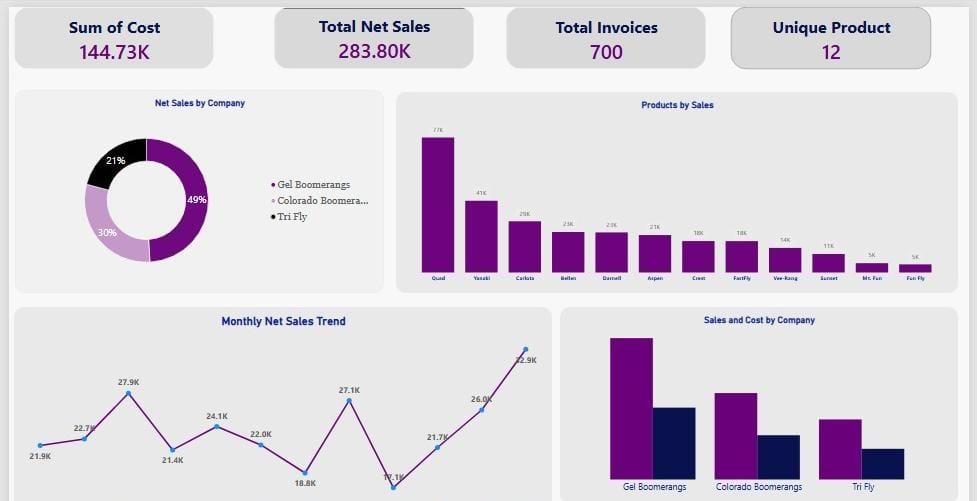

What the dashboard file says about the page in this screenshot:
{"tool":"powerbi","page":{"name":"Page 1","canvas":[1920,1080],"ordinal":0},"visuals":[{"type":"cardVisual","fields":{"Data":["Sum(Merge1.Net Sales)"]},"box":[530,0,400,124],"z":0},{"type":"columnChart","title":"Products by Sales","fields":{"Category":["Merge1.      Product      "],"Y":["Sum(Merge1.Net Sales)"]},"box":[774,170,1124,402],"z":1000},{"type":"cardVisual","fields":{"Data":["Sum(Merge1.Cost)"]},"box":[10,0,400,124],"z":2000},{"type":"clusteredColumnChart","title":"Sales and Cost by Company","fields":{"Category":["Merge1. Company"],"Y":["Sum(Merge1.Net Sales)","Sum(Merge1.Cost)"]},"box":[1102,600,796,394],"z":3000},{"type":"lineChart","title":"Monthly Net Sales Trend","fields":{"Category":["Merge1.Date.Variation.Date Hierarchy.Month"],"Y":["Sum(Merge1.Net Sales)"]},"box":[10,600,1076,422],"z":4000},{"type":"donutChart","title":"Net Sales by Company","fields":{"Category":["Merge1. Company"],"Y":["Sum(Merge1.Net Sales)"]},"box":[12,166,738,406],"z":5000},{"type":"cardVisual","fields":{"Data":["Count(Merge1.Invoice Number)"]},"box":[994,0,400,124],"z":6000},{"type":"cardVisual","fields":{"Data":["CountNonNull(notepad.      Product      )"]},"box":[1444,0,400,124],"z":7000}]}

Visuals, with their boxes on the page's 1920x1080 design canvas (x1, y1, x2, y2). These are canvas units, not pixel positions in the 977x501 screenshot, which may show the page scaled, cropped or inside an application window:
cardVisual - Sum(Merge1.Net Sales): box(530, 0, 930, 124)
"Products by Sales" columnChart: box(774, 170, 1898, 572)
cardVisual - Sum(Merge1.Cost): box(10, 0, 410, 124)
"Sales and Cost by Company" clusteredColumnChart: box(1102, 600, 1898, 994)
"Monthly Net Sales Trend" lineChart: box(10, 600, 1086, 1022)
"Net Sales by Company" donutChart: box(12, 166, 750, 572)
cardVisual - Count(Merge1.Invoice Number): box(994, 0, 1394, 124)
cardVisual - CountNonNull(notepad.      Product      ): box(1444, 0, 1844, 124)
